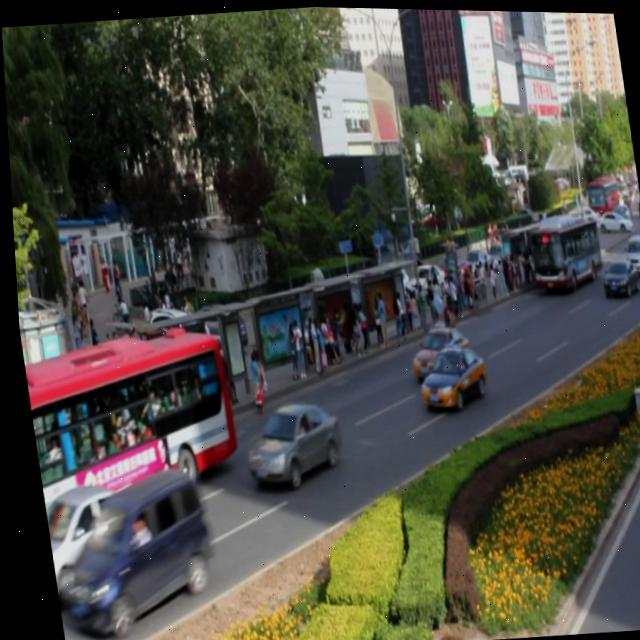car: (36, 477, 144, 599), (234, 397, 339, 490), (410, 340, 484, 411), (403, 321, 468, 378), (594, 253, 635, 296)
truck: (41, 459, 211, 633)
van: (16, 323, 241, 531), (522, 206, 599, 289)
